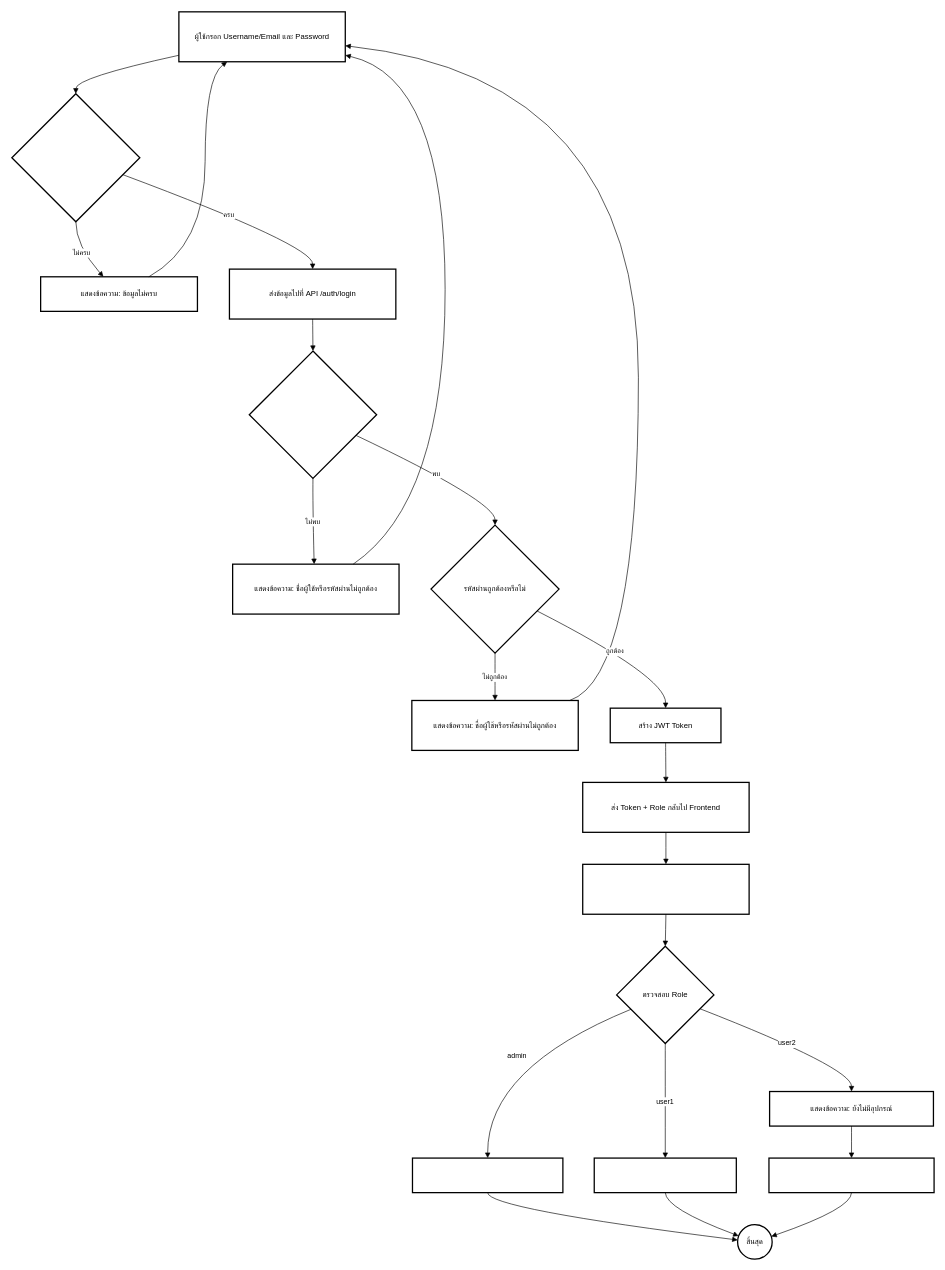
Some shapes in this 945 by 1270 pixel diagram are drawn without their labels. The centre of each missing label's shape, as x and y in pixels:
Frontend บันทึก Token ใน LocalStorage: [665,889]
กรอกข้อมูลครบหรือไม่: [75,157]
พบผู้ใช้ในระบบหรือไม่: [312,414]
ให้เพิ่มอุปกรณ์ในหน้า Devices: [851,1175]
ไปหน้า Dashboard Admin: [487,1175]
ไปหน้า Dashboard User: [665,1175]
